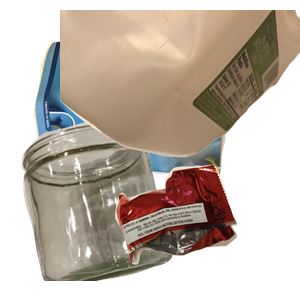glass: (19, 120, 184, 300)
paper: (31, 34, 252, 205)
plastic: (60, 10, 300, 160)
trash: (113, 162, 300, 300)
